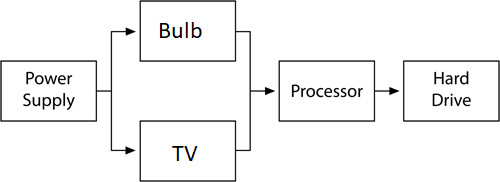arrow: (232, 85, 281, 153), (233, 28, 278, 95), (97, 26, 140, 94), (98, 88, 138, 155), (374, 86, 403, 96)
process: (276, 58, 377, 124), (1, 57, 99, 124), (401, 58, 500, 124), (138, 1, 238, 65), (137, 119, 238, 182)
text: (20, 69, 77, 110), (429, 70, 473, 109), (289, 83, 365, 100), (158, 20, 205, 42), (171, 143, 200, 162)
